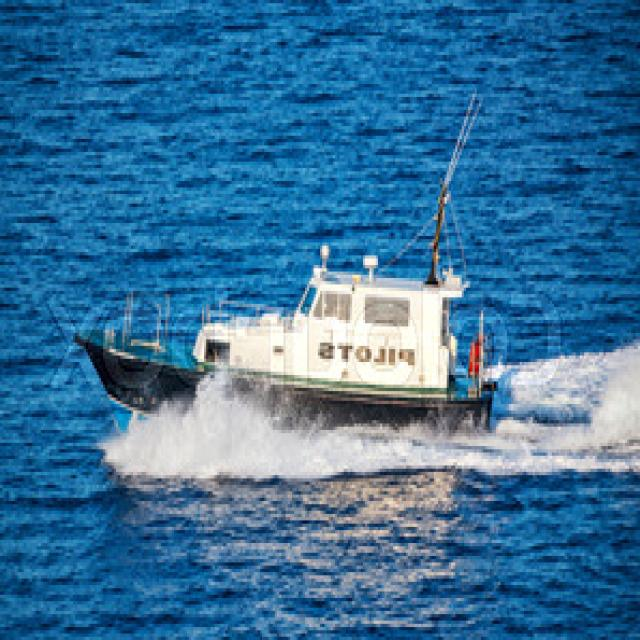houseboat: (78, 134, 505, 446)
